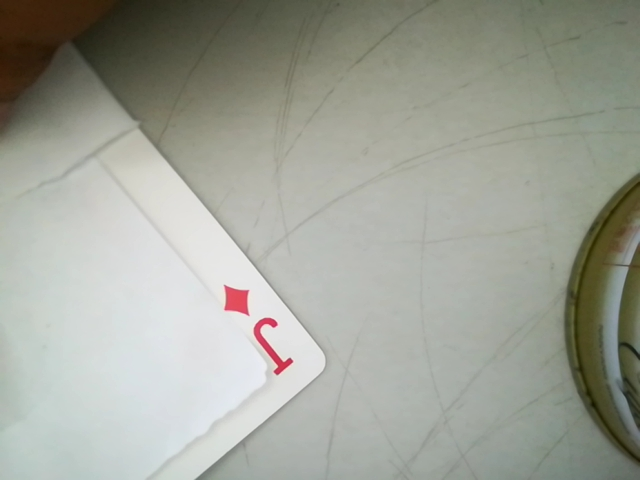fk j: (217, 275, 295, 376)
